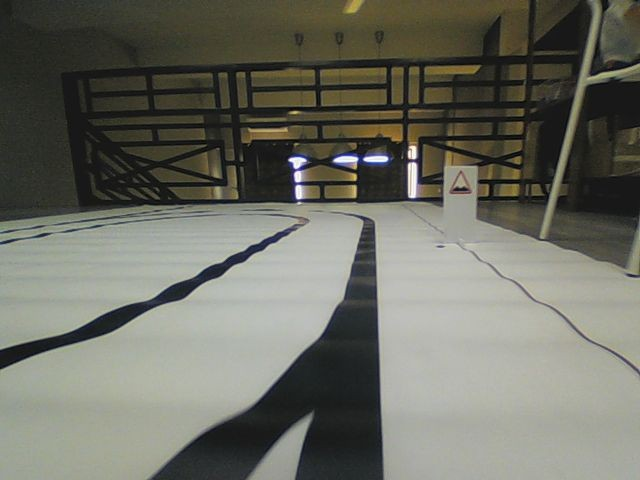Nerov: (448, 168, 472, 195)
